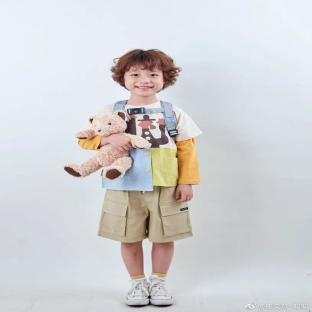Human: (98, 49, 202, 305), (79, 136, 131, 151)
